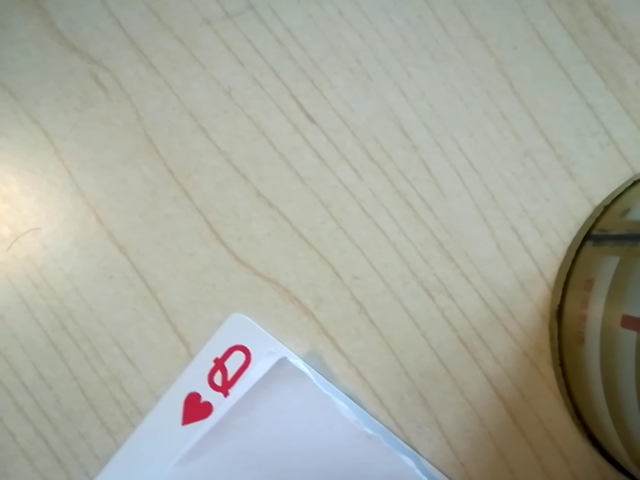hx q: (176, 337, 262, 432)
